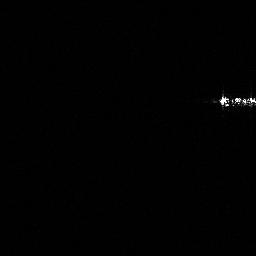ship: (218, 94, 256, 109)
